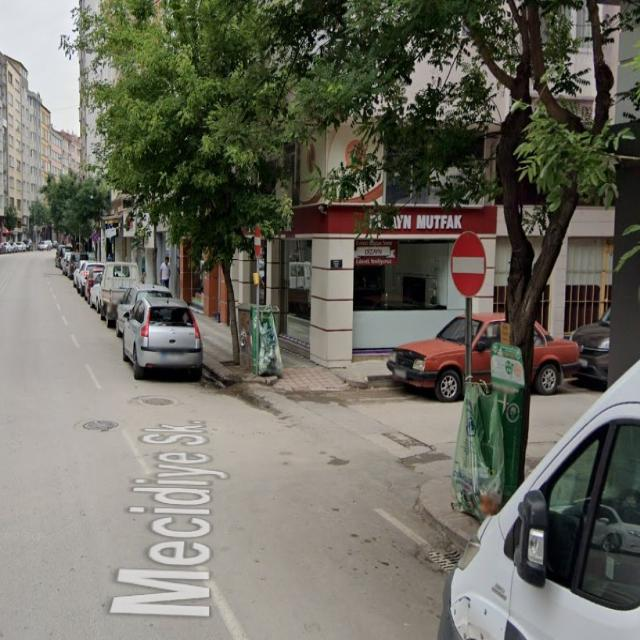girisyok: (451, 231, 486, 298), (254, 224, 262, 258)
